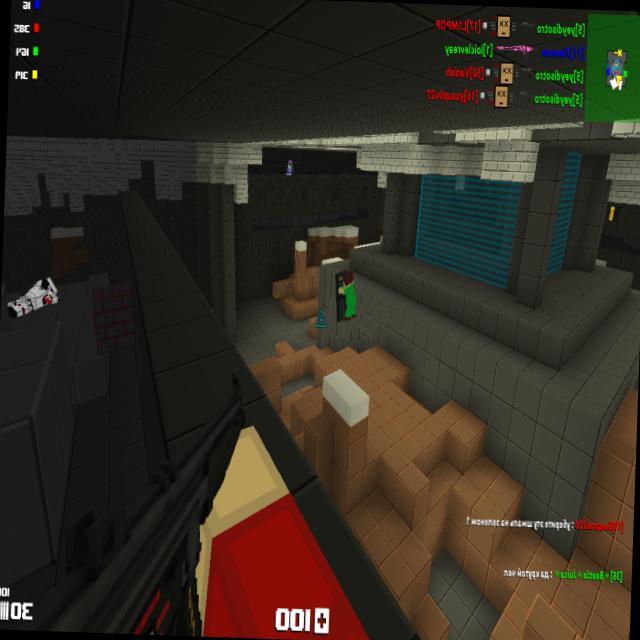enemy: (337, 268, 358, 320), (285, 159, 294, 175), (608, 205, 615, 221)
